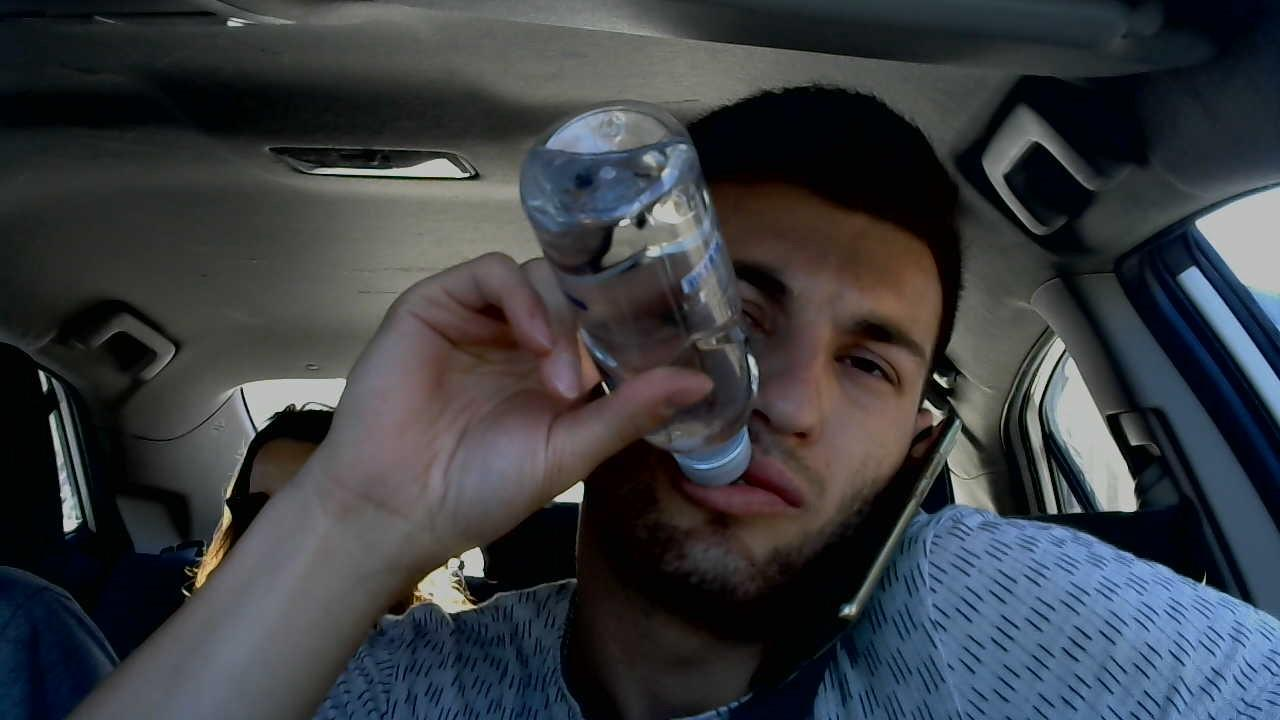Drinking: (517, 97, 931, 598)
